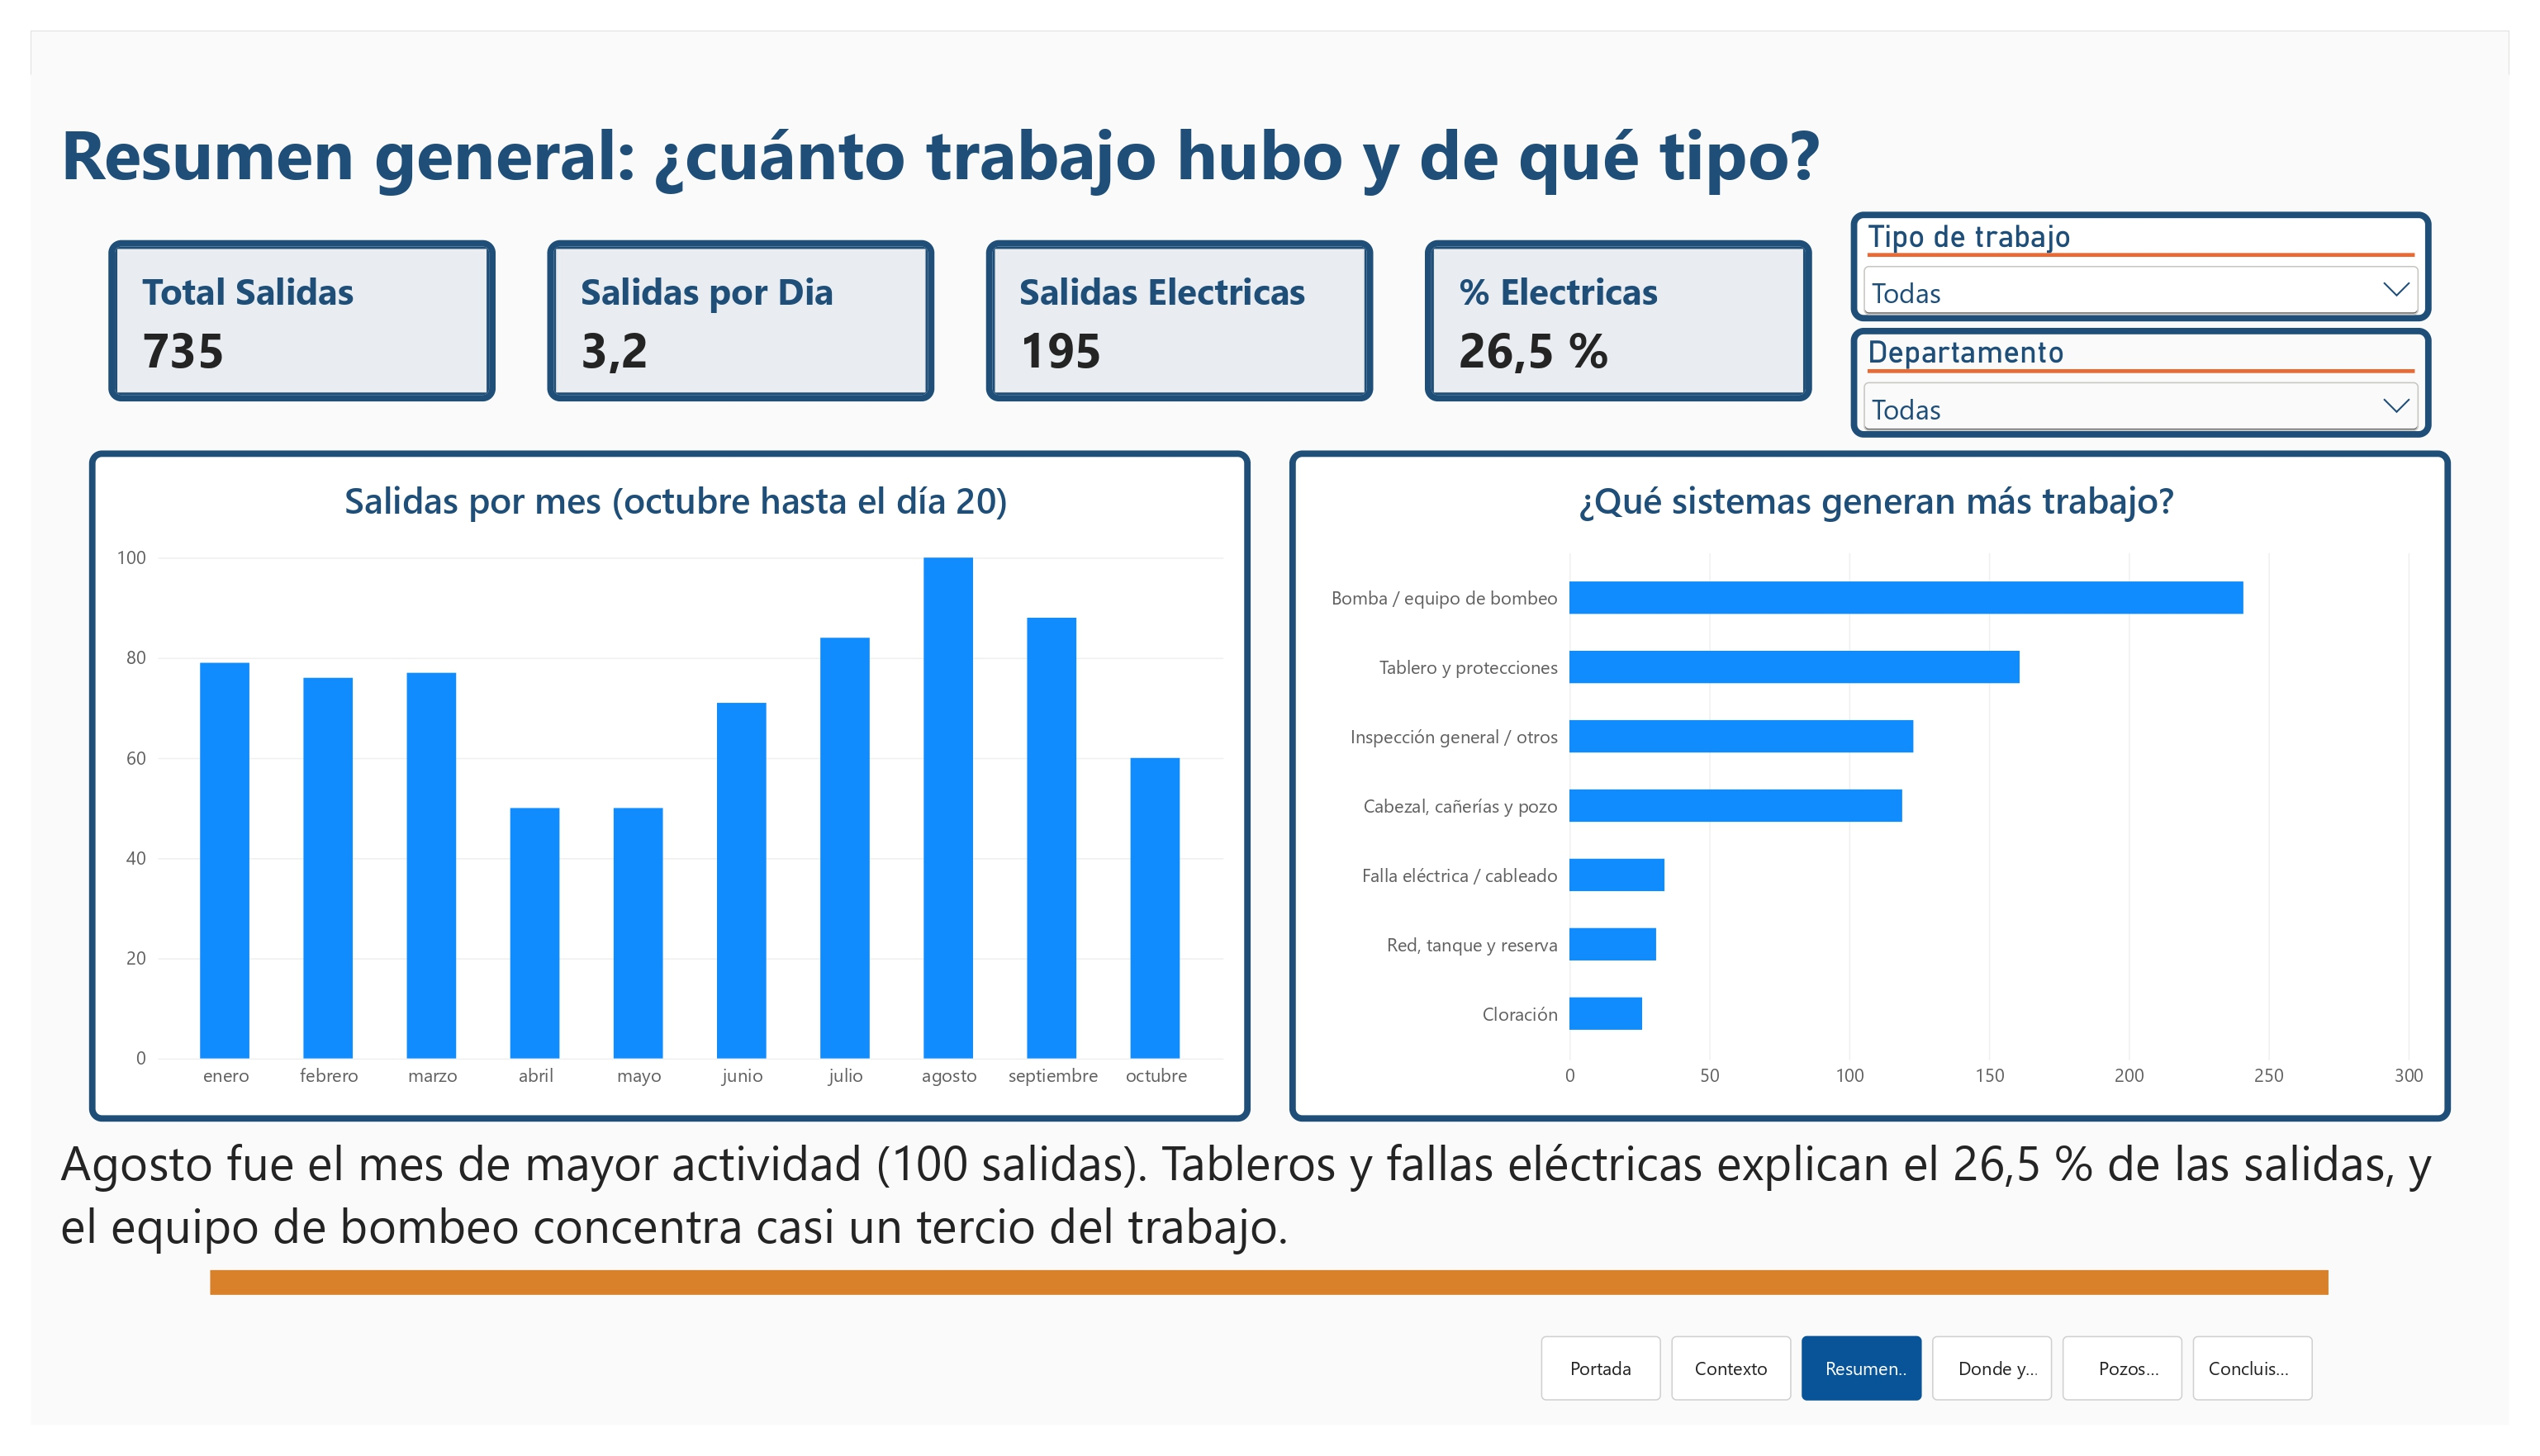

The dashboard page shown, as its layout file describes it:
{"tool":"powerbi","page":{"name":"Resumen general","canvas":[1920,1080],"ordinal":2},"visuals":[{"type":"textbox","box":[23.3,56.7,1873.3,955],"z":0},{"type":"slicer","fields":{"Values":["Salidas.departamento"]},"box":[1410,230,450,85],"z":1000},{"type":"columnChart","title":"Salidas por mes (octubre hasta el día 20)","fields":{"Category":["Salidas.fecha.Variation.Jerarquía de fechas.Mes"],"Y":["Salidas.Total Salidas"]},"box":[45,325,900,520],"z":1000},{"type":"cardVisual","fields":{"Data":["Salidas.% Electricas"]},"box":[1080,162.3,300,125],"z":2000},{"type":"cardVisual","fields":{"Data":["Salidas.Salidas Electricas"]},"box":[740,161.7,300,125],"z":3000},{"type":"cardVisual","fields":{"Data":["Salidas.Total Salidas"]},"box":[60,161.7,300,125],"z":4000},{"type":"clusteredBarChart","title":"¿Qué sistemas generan más trabajo?","fields":{"Category":["Salidas.sistema"],"Y":["Salidas.Total Salidas"]},"box":[975,325,900,520],"z":4000},{"type":"slicer","fields":{"Values":["Salidas.tipo_trabajo"]},"box":[1410,140,450,85],"z":5000},{"type":"cardVisual","fields":{"Data":["Salidas.Salidas por Dia"]},"box":[400,162.3,300,125],"z":6000},{"type":"shape","box":[138.6,960,1641.3,19],"z":7000},{"type":"pageNavigator","box":[1170.1,1011.1,600,50],"z":8000}]}

Visuals, with their boxes on the page's 1920x1080 design canvas (x1, y1, x2, y2). These are canvas units, not pixel positions in the 2540x1456 screenshot, which may show the page scaled, cropped or inside an application window:
textbox: (left=23, top=57, right=1897, bottom=1012)
slicer - Salidas.departamento: (left=1410, top=230, right=1860, bottom=315)
"Salidas por mes (octubre hasta el día 20)" columnChart: (left=45, top=325, right=945, bottom=845)
cardVisual - Salidas.% Electricas: (left=1080, top=162, right=1380, bottom=287)
cardVisual - Salidas.Salidas Electricas: (left=740, top=162, right=1040, bottom=287)
cardVisual - Salidas.Total Salidas: (left=60, top=162, right=360, bottom=287)
"¿Qué sistemas generan más trabajo?" clusteredBarChart: (left=975, top=325, right=1875, bottom=845)
slicer - Salidas.tipo_trabajo: (left=1410, top=140, right=1860, bottom=225)
cardVisual - Salidas.Salidas por Dia: (left=400, top=162, right=700, bottom=287)
shape: (left=139, top=960, right=1780, bottom=979)
pageNavigator: (left=1170, top=1011, right=1770, bottom=1061)
